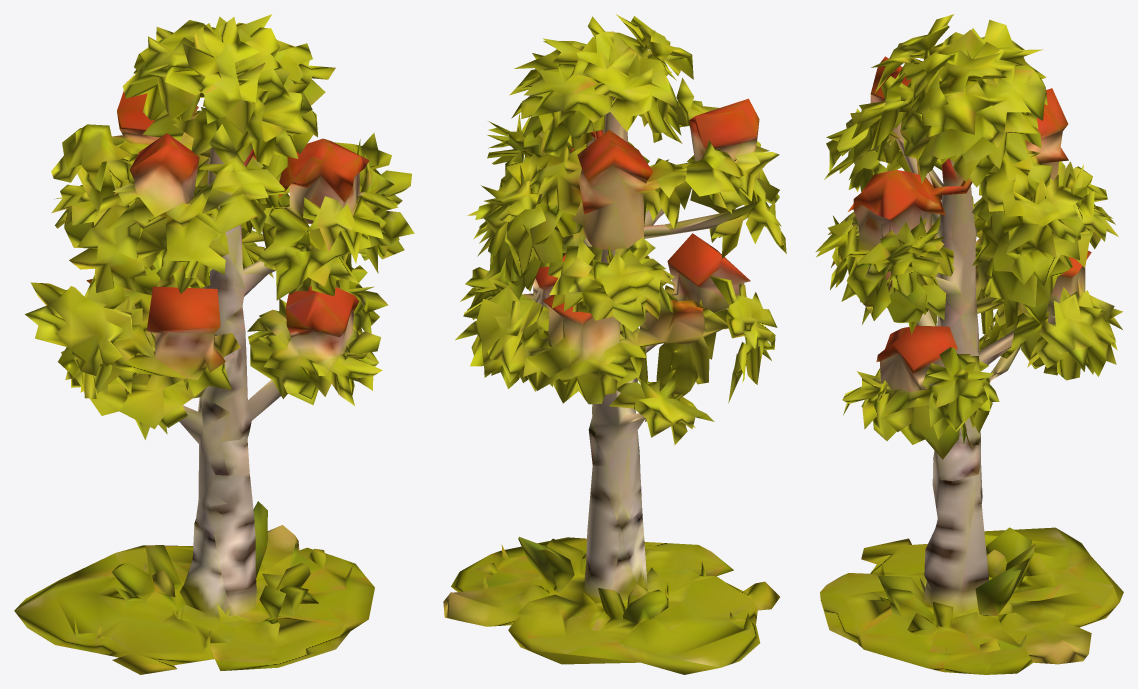
File: birch.glb
The picture shows the model from 3 angles, left to right: view 1: azimuth 30°, elevation 25°; view 2: azimuth 150°, elevation 25°; view 3: azimuth 270°, elevation 25°; orthographic projection. The views are drawn at different scales.
Visible parts, largest first — view 1: tripo_node_35ada262-5567-4070-8557-61af35f66f34; view 2: tripo_node_35ada262-5567-4070-8557-61af35f66f34; view 3: tripo_node_35ada262-5567-4070-8557-61af35f66f34.
Boxes of the visible parts, box(x1,y1,x2,y2) form: tripo_node_35ada262-5567-4070-8557-61af35f66f34: box(14, 14, 414, 674); tripo_node_35ada262-5567-4070-8557-61af35f66f34: box(443, 14, 786, 674); tripo_node_35ada262-5567-4070-8557-61af35f66f34: box(815, 14, 1123, 674).
Size of the model in its own units: 0.5697 by 0.9817 by 0.4687.
Materials: 1 (1 with a texture image).
